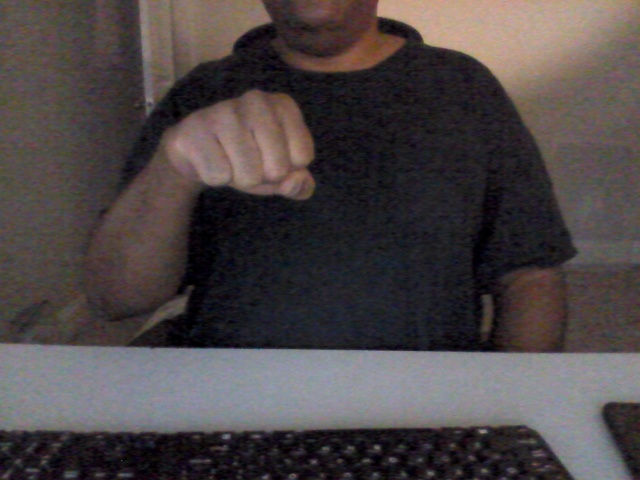yes: (161, 88, 321, 205)
